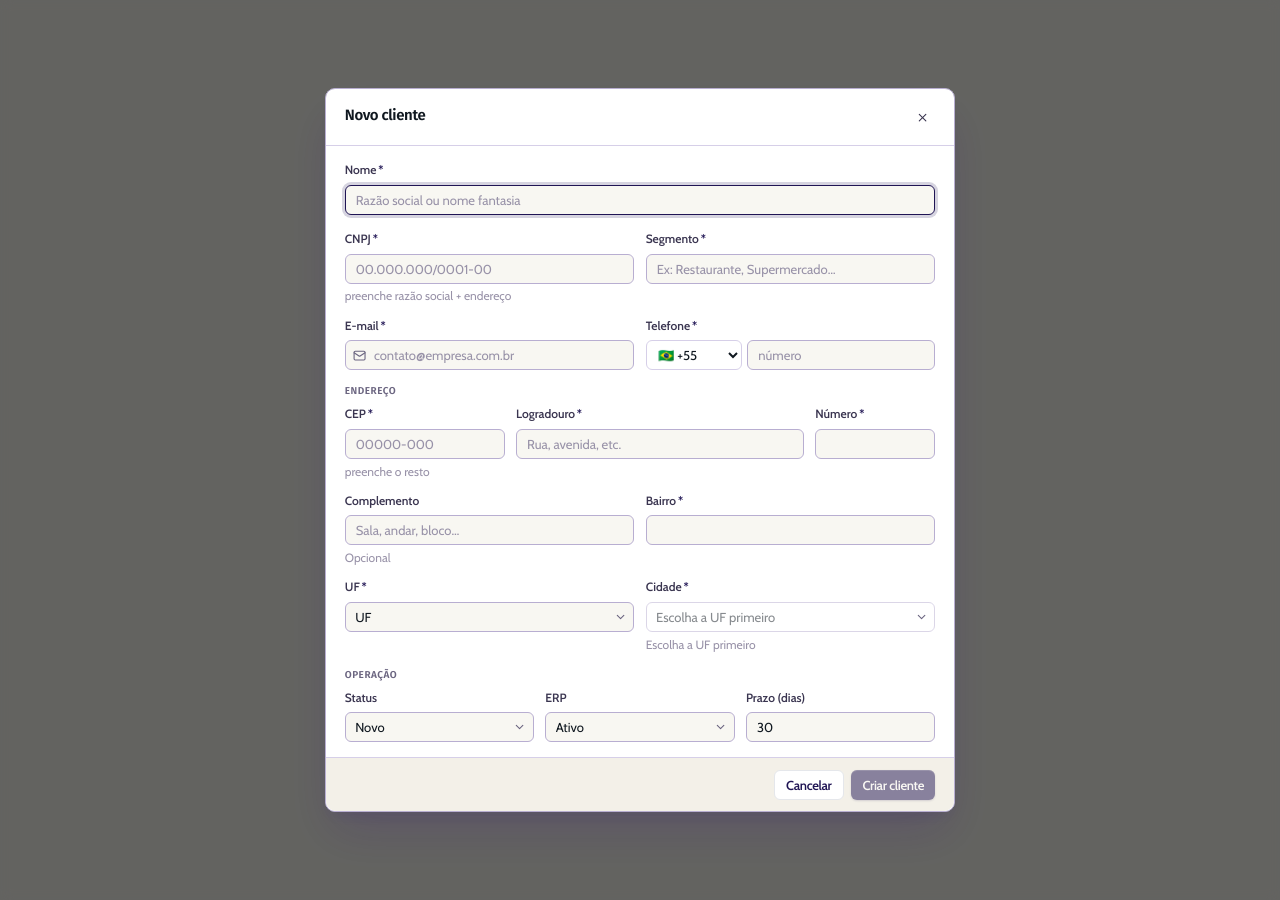
Test: ClienteFormModal — CNPJ que já existe › CNPJ novo segue pra Receita e preenche a razão social
In the field with test id "cliente-cnpj-input": (490, 269) [345,254,634,284], type "16774052000155"
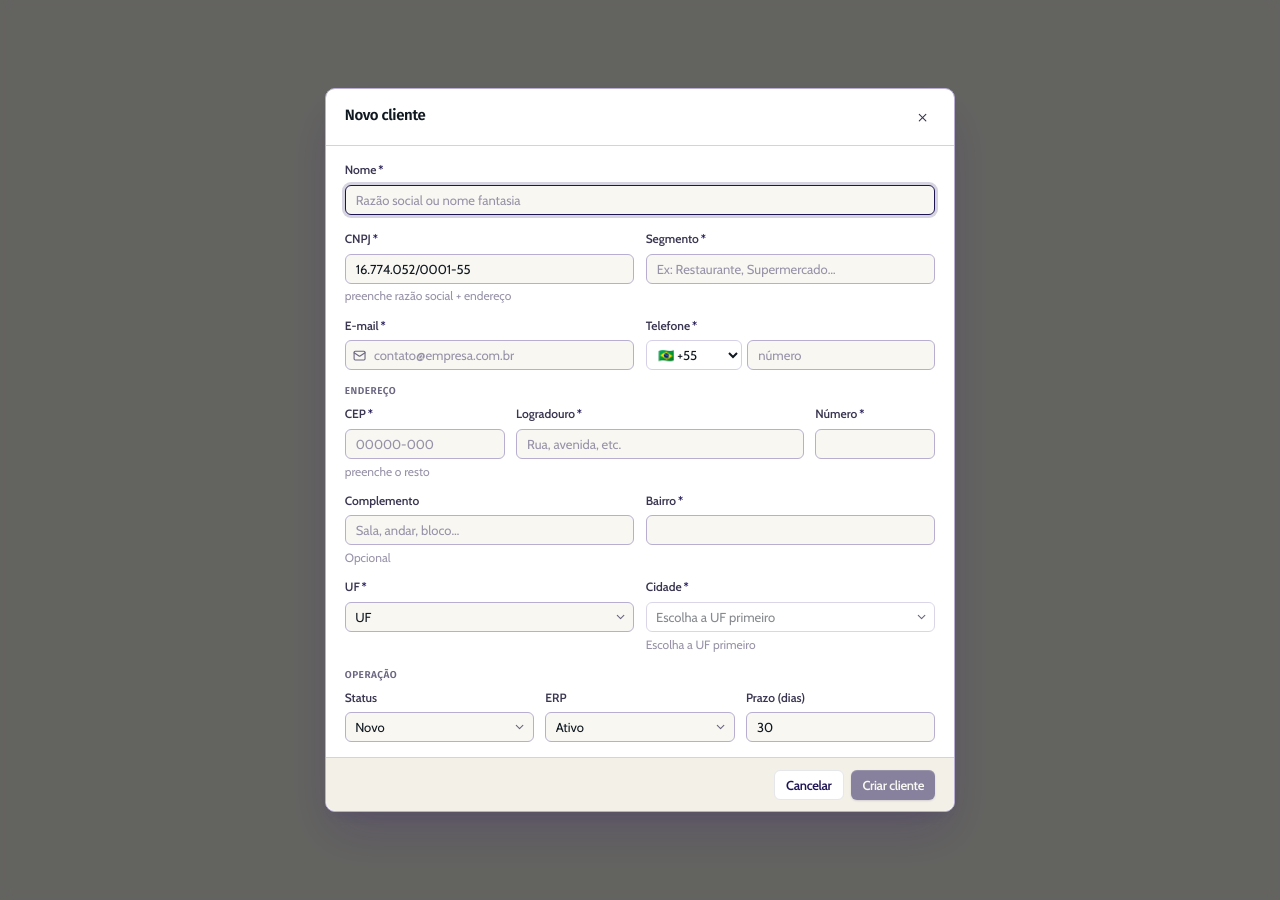
Leave the field with test id "cliente-cnpj-input", box [345,254,634,284]
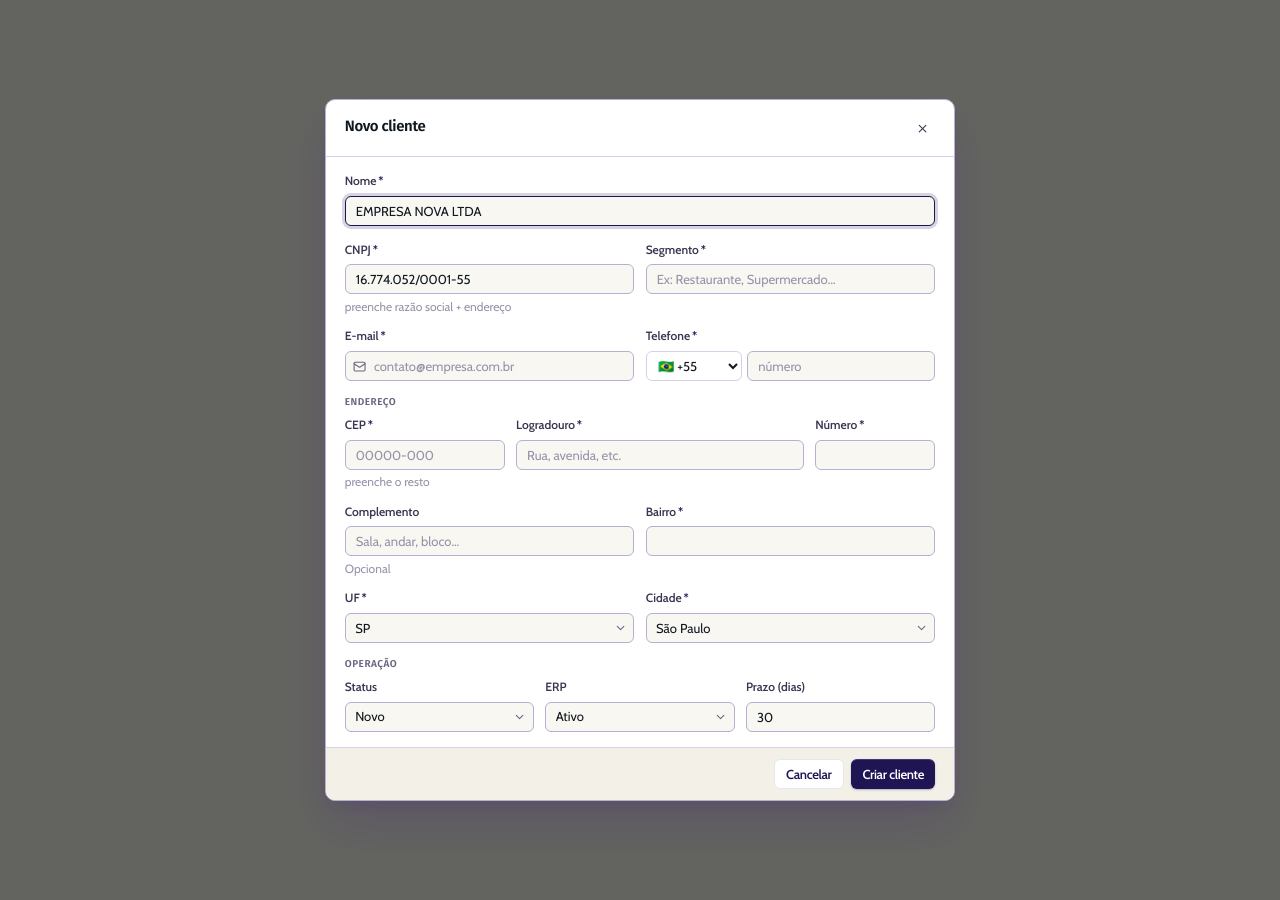
Expected: the field with test id "cliente-nome-input" holds "EMPRESA NOVA LTDA", [345,196,935,226]
